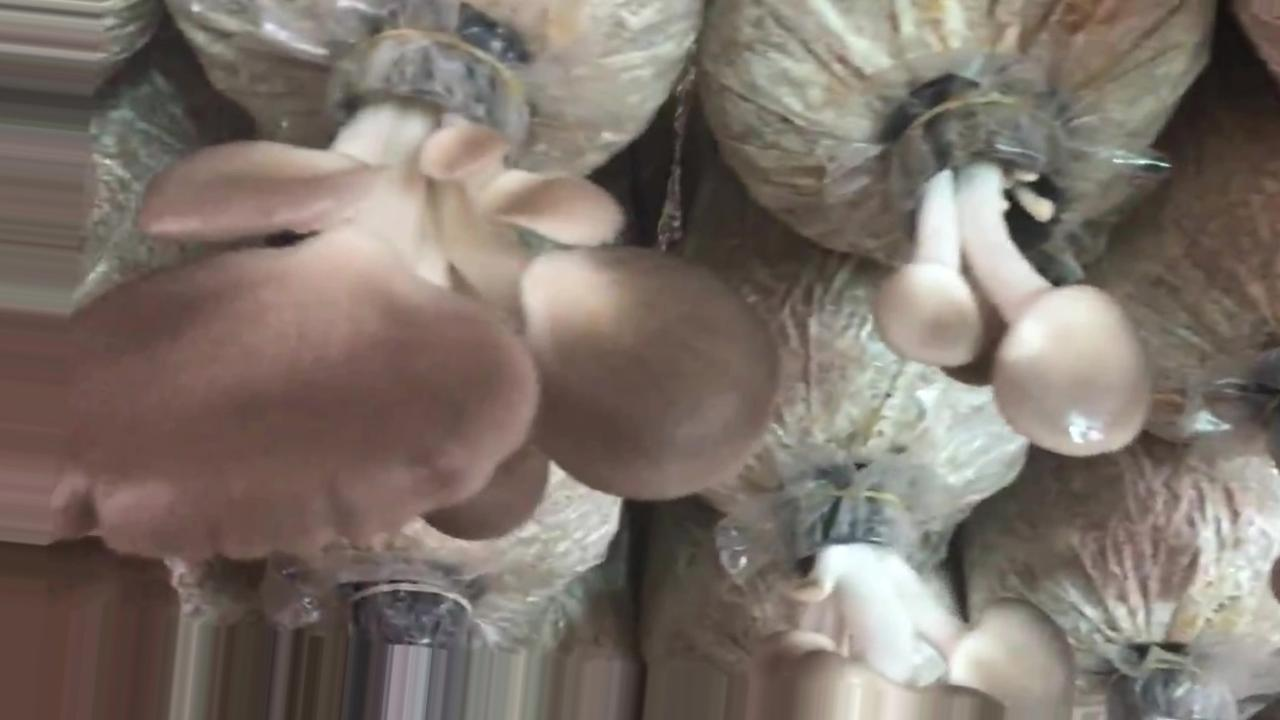nam: (1, 32, 780, 559), (880, 87, 1149, 456), (743, 488, 1077, 720)
